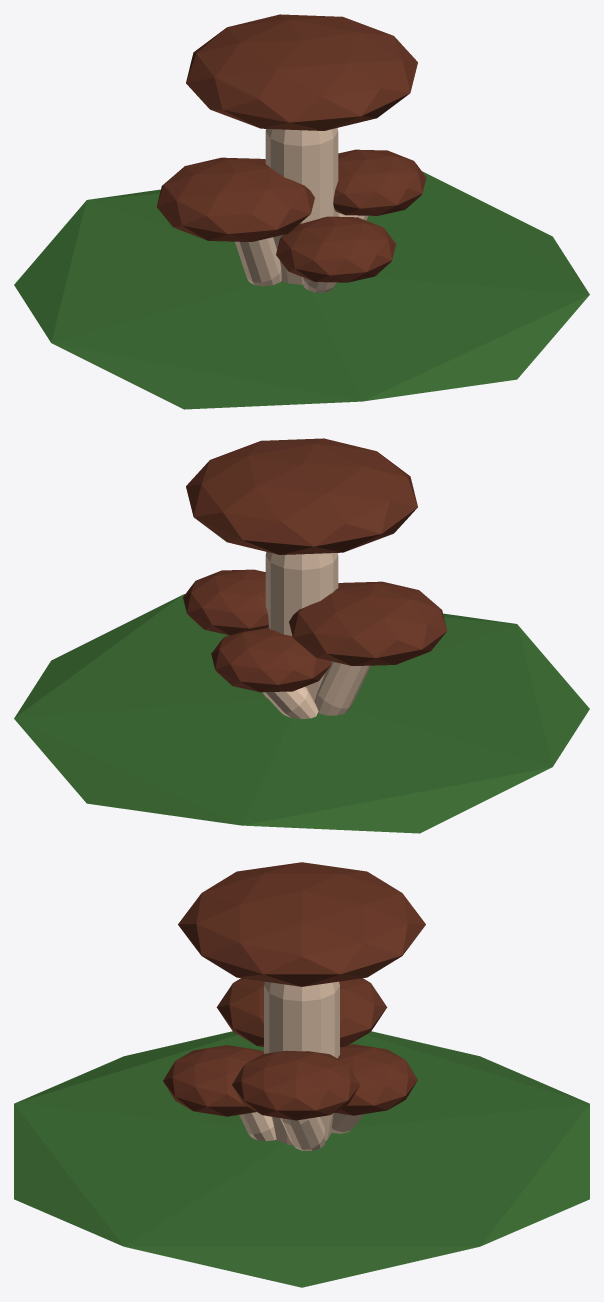
The model's file is gribi.fbx.
The picture shows the model from 3 angles, top to bottom: view 1: azimuth 30°, elevation 25°; view 2: azimuth 150°, elevation 25°; view 3: azimuth 270°, elevation 25°; orthographic projection. The views are drawn at different scales.
Visible parts, largest first — view 1: Icosphere, Icosphere.005, Cylinder.004; view 2: Icosphere, Icosphere.005, Cylinder.004; view 3: Icosphere, Icosphere.005, Cylinder.004.
Part boxes in pixels (left/top/right/bottom): Icosphere: left=14, top=171, right=589, bottom=409; Icosphere.005: left=156, top=14, right=426, bottom=282; Cylinder.004: left=235, top=128, right=368, bottom=292; Icosphere: left=14, top=594, right=589, bottom=833; Icosphere.005: left=183, top=438, right=447, bottom=692; Cylinder.004: left=262, top=552, right=370, bottom=719; Icosphere: left=14, top=1031, right=589, bottom=1287; Icosphere.005: left=163, top=862, right=425, bottom=1120; Cylinder.004: left=239, top=981, right=363, bottom=1150.
Bounding box in the file's own units: 179 × 90.97 × 170.
